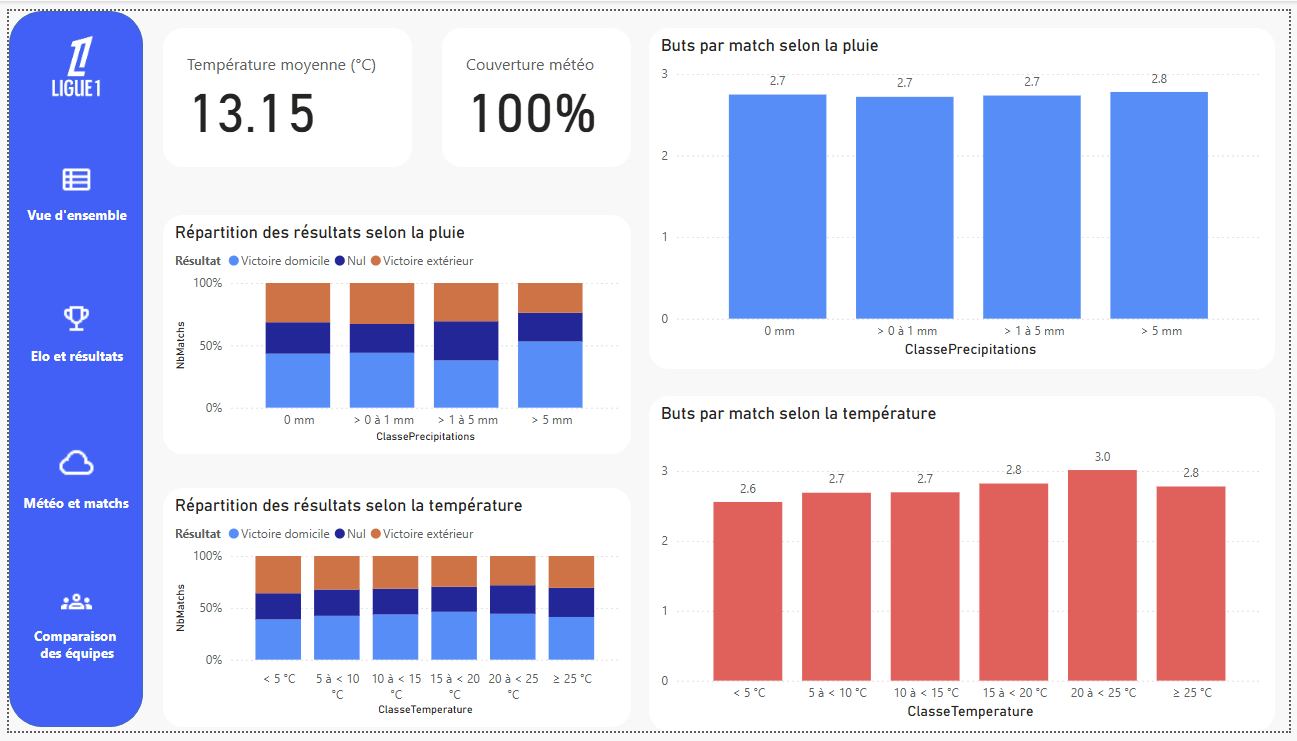

The page's visual inventory and layout, read from the dashboard file:
{"tool":"powerbi","page":{"name":"Météo et matchs","canvas":[1280,720],"ordinal":2},"visuals":[{"type":"cardVisual","fields":{"Data":["public v_match_analysis.PartMeteoDisponible"]},"box":[404.3,16.7,218,139.3],"z":0},{"type":"cardVisual","fields":{"Data":["public v_match_analysis.TemperatureMoyenneC"]},"box":[154.4,16.7,218,139.3],"z":1000},{"type":"clusteredColumnChart","fields":{"Category":["public v_match_analysis.ClasseTemperature"],"Y":["public v_match_analysis.MoyenneButs"]},"box":[154.4,436.1,467.9,280.1],"z":2000},{"type":"columnChart","fields":{"Category":["public v_match_analysis.ClassePrecipitations"],"Y":["public v_match_analysis.MoyenneButs"]},"box":[661.7,16.7,542,280],"z":3000},{"type":"hundredPercentStackedColumnChart","fields":{"Category":["public v_match_analysis.ClassePrecipitations"],"Series":["public v_match_analysis.result"],"Y":["public v_match_analysis.NbMatchs"]},"box":[154.4,181.7,467.9,239.2],"z":4000},{"type":"shape","box":[0,0,134.3,715.7],"z":5000},{"type":"image","box":[20,1.4,94.3,107.1],"z":6000}]}

Visuals, with their boxes on the page's 1280x720 design canvas (x1, y1, x2, y2). These are canvas units, not pixel positions in the 1297x741 screenshot, which may show the page scaled, cropped or inside an application window:
cardVisual - public v_match_analysis.PartMeteoDisponible: (404,17,622,156)
cardVisual - public v_match_analysis.TemperatureMoyenneC: (154,17,372,156)
clusteredColumnChart - public v_match_analysis.ClasseTemperature x public v_match_analysis.MoyenneButs: (154,436,622,716)
columnChart - public v_match_analysis.ClassePrecipitations x public v_match_analysis.MoyenneButs: (662,17,1204,297)
hundredPercentStackedColumnChart - public v_match_analysis.ClassePrecipitations x public v_match_analysis.result: (154,182,622,421)
shape: (0,0,134,716)
image: (20,1,114,108)
